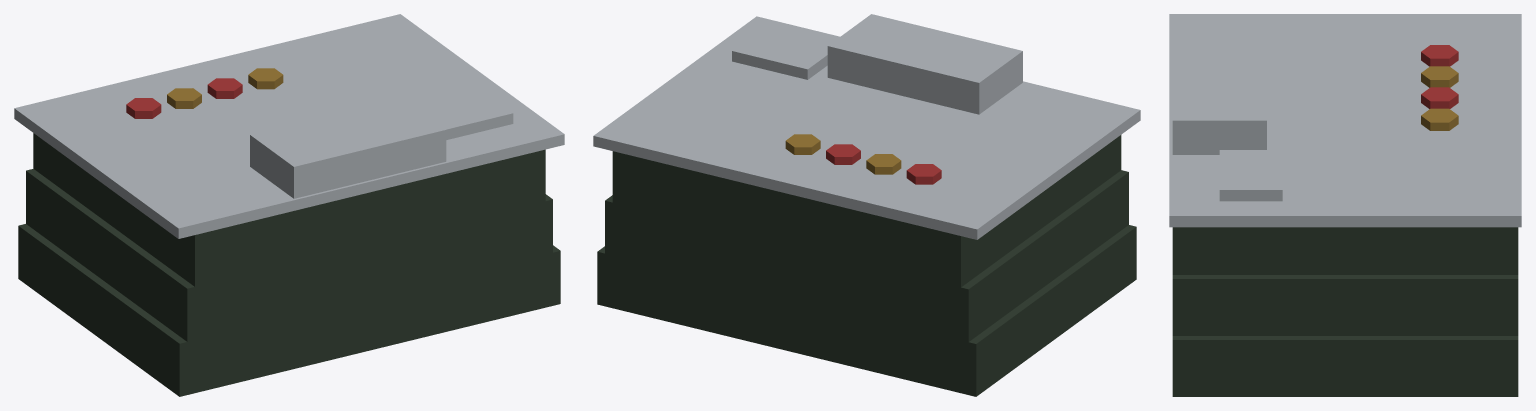
Rendered from clothes-dress-uniform.glb.
3 views of the same model, side by side, from view 1: azimuth 30°, elevation 25°; view 2: azimuth 150°, elevation 25°; view 3: azimuth 270°, elevation 25° (orthographic). The views are drawn at different scales.
Visible parts, largest first — view 1: m; view 2: m; view 3: m.
Boxes of the visible parts, <box> form: m: <box>14,14,564,396</box>; m: <box>593,14,1140,396</box>; m: <box>1169,14,1521,396</box>.
Bounding box in the file's own units: 0.15 × 0.075 × 0.1105.
